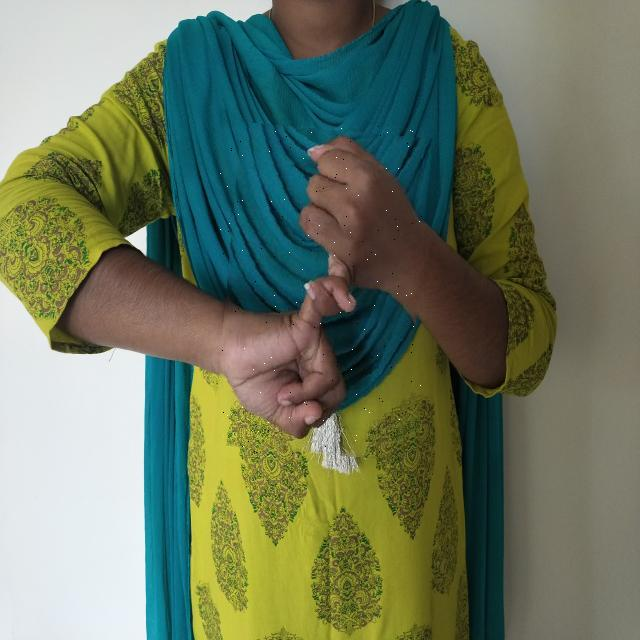S: (220, 126, 425, 458)
